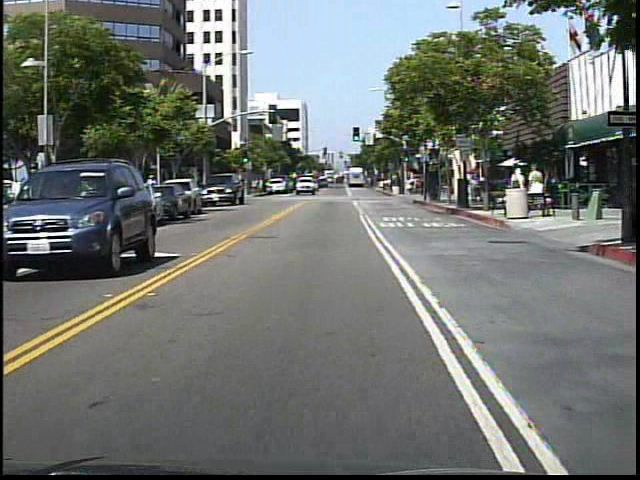person: (253, 174, 266, 200)
